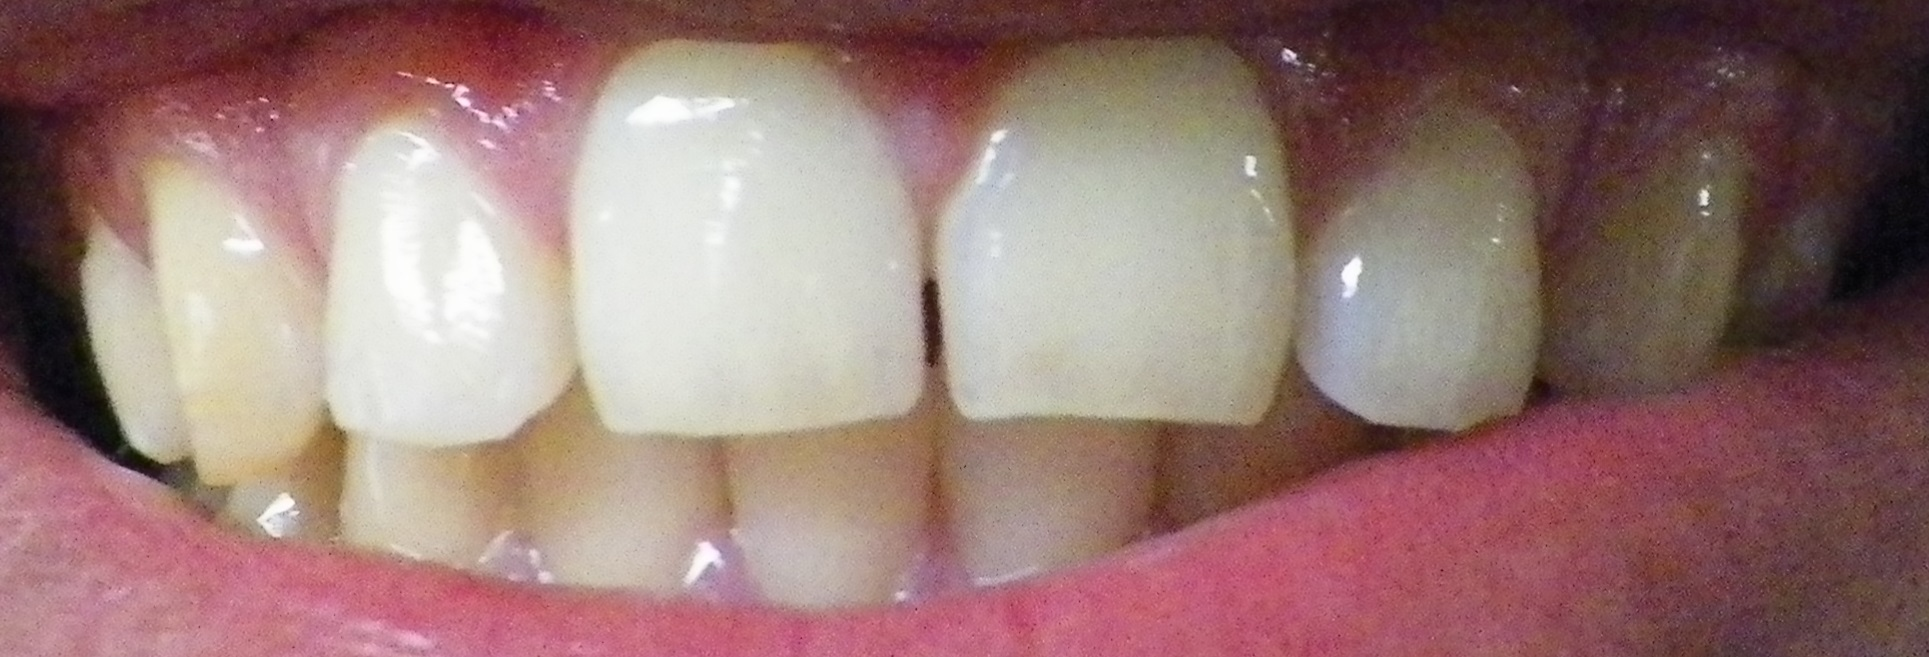boca: (62, 57, 1831, 607)
